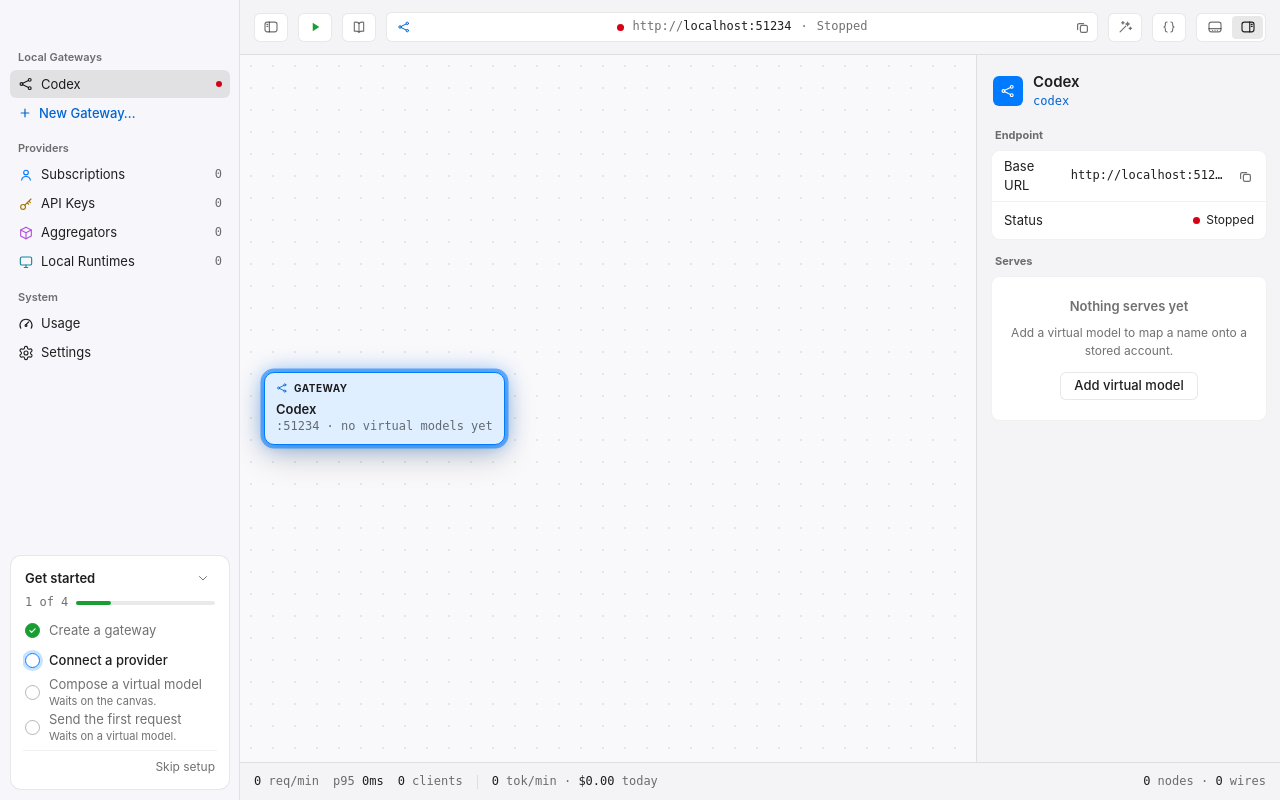
Test case: the toolbar control that opens the inspector closes it once, never twice
Click the button named "Inspector" at coordinates (1248, 27), box [1232,16,1263,38]
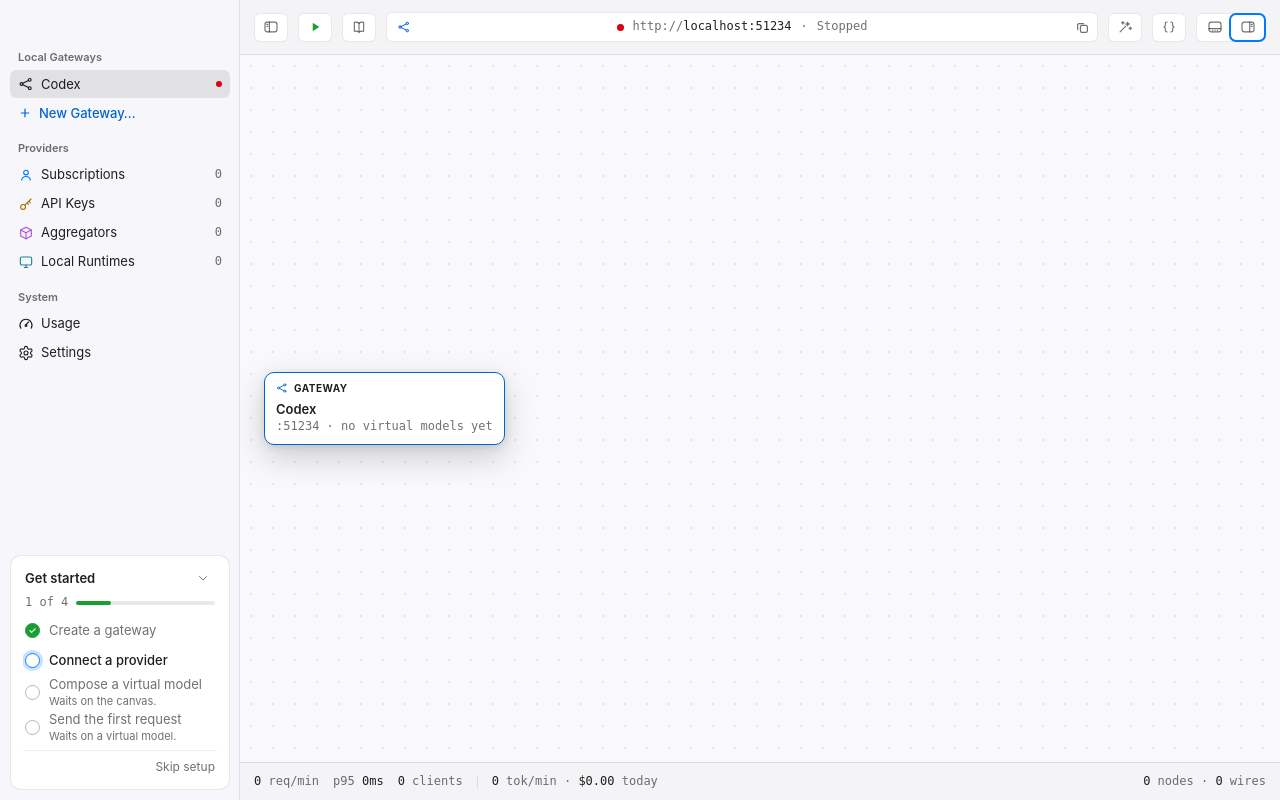
Click the button named "Inspector" at coordinates (1248, 27), box [1232,16,1263,38]
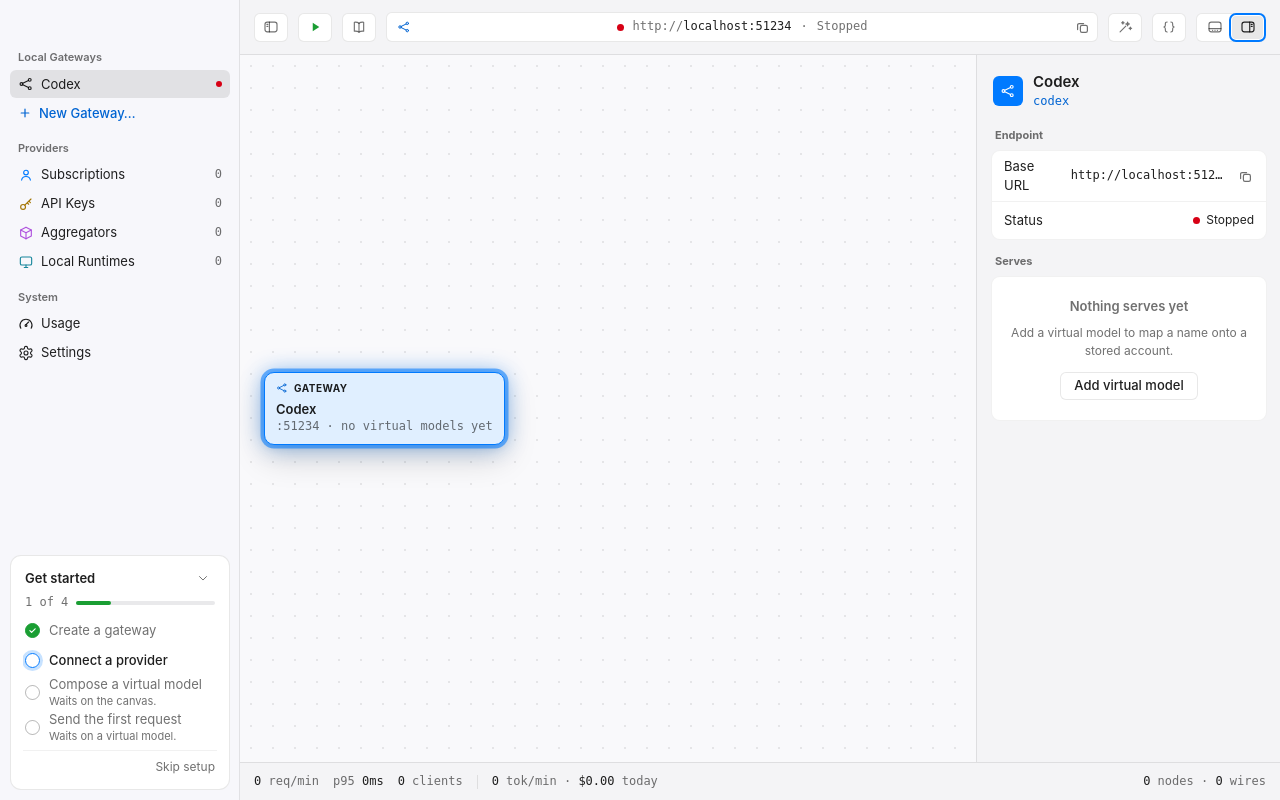
Result: the text "Endpoint" is shown at [995,128,1043,144]
